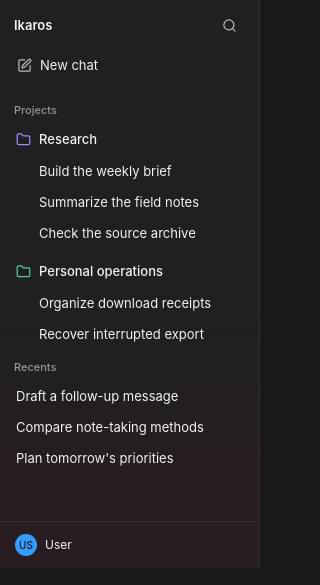
Test case: Sidebar conversation ownership › keeps secondary features inside a profile menu with one working settings entry
Expected: the text "User" is shown, 45,537 -> 72,552
Press the mouse on the button with aria-label "Open profile menu" at (130, 545), box 8,526 -> 251,564
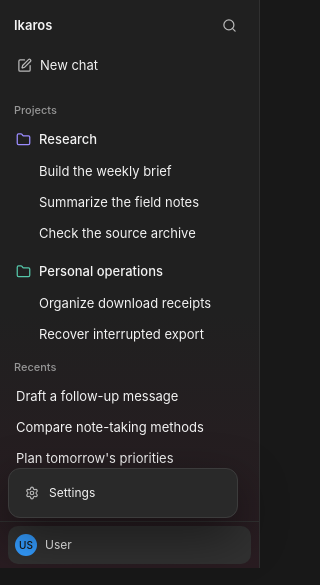
Now the number of menu items is 1
Click the menu item "Settings" at (60, 492), box 25,485 -> 95,500
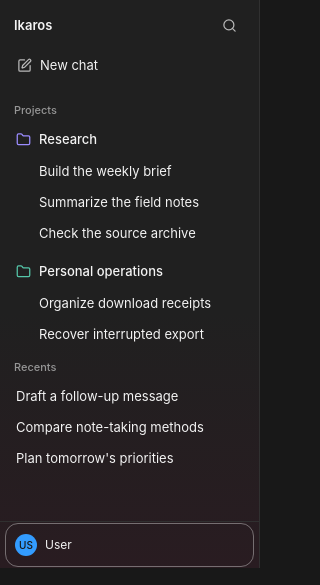
Now the menu item "Settings" is gone
